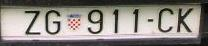-: (145, 18, 155, 24)
1: (111, 7, 120, 35), (131, 7, 140, 35)
9: (86, 8, 103, 34)
C: (158, 7, 173, 33)
G: (44, 10, 62, 34)
K: (177, 7, 194, 33)
Z: (22, 10, 42, 36)
